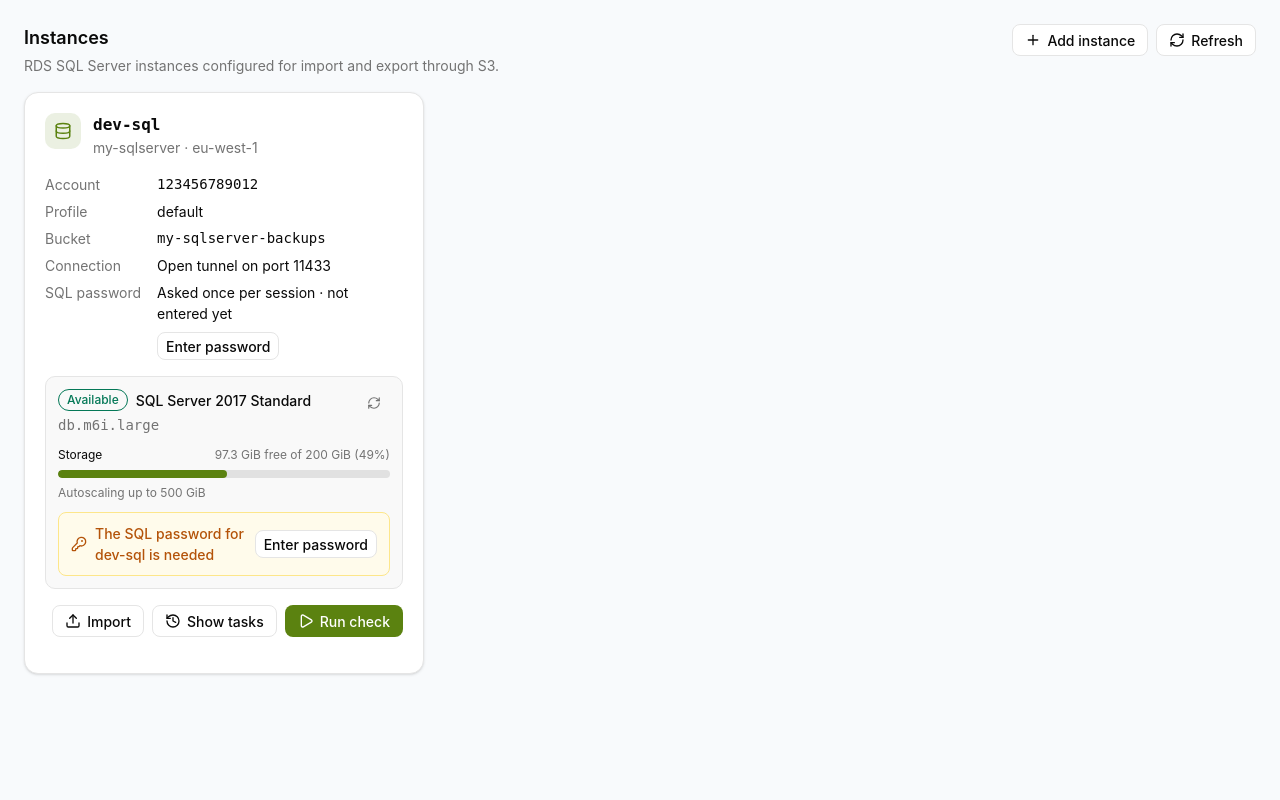
it: the password dialog from the pages › Instances: the overview that skips SQL for the password offers the dialog, then reloads
// The state line of the card has the same button: this one is in the overview.
Click the button with aria-label "Enter password for dev-sql" at [316, 544], box [255,530,377,558]
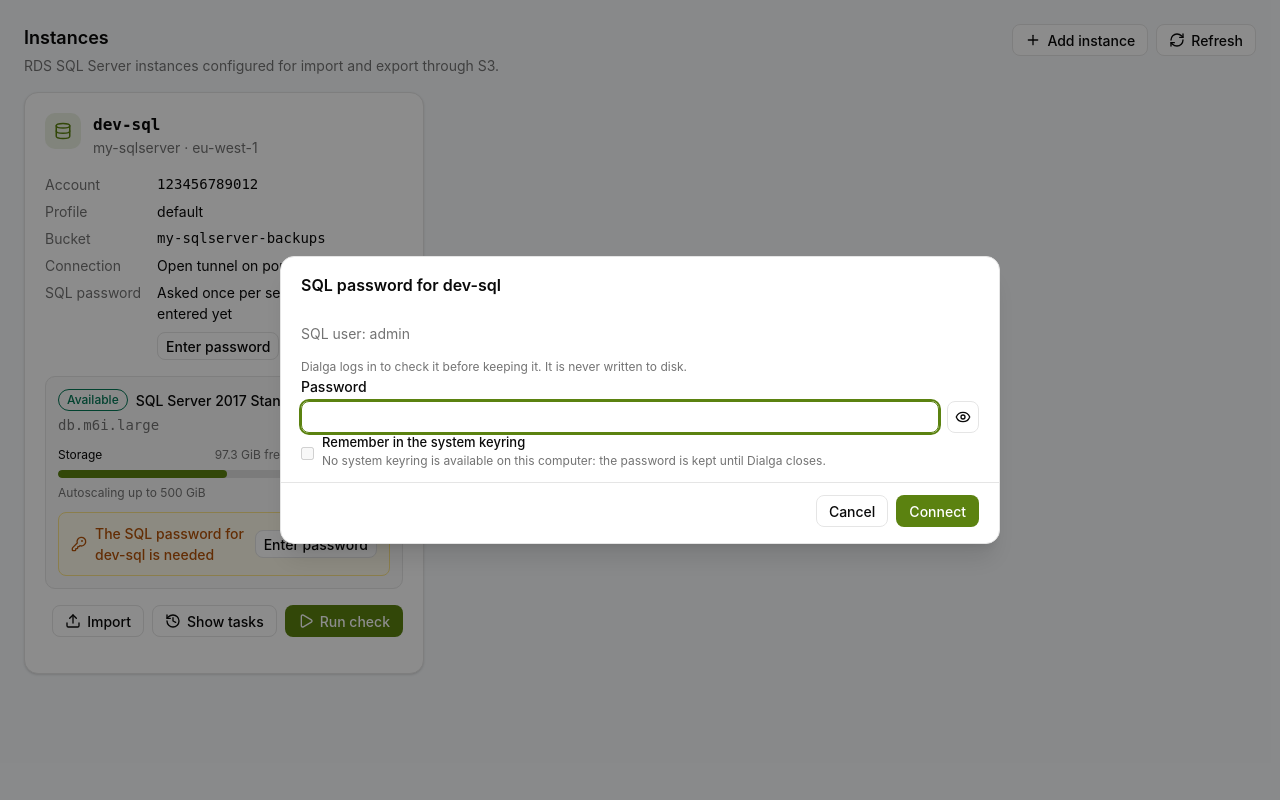
Type "pw" into the password field labelled "Password" at [620, 417], box [301,401,939,433]
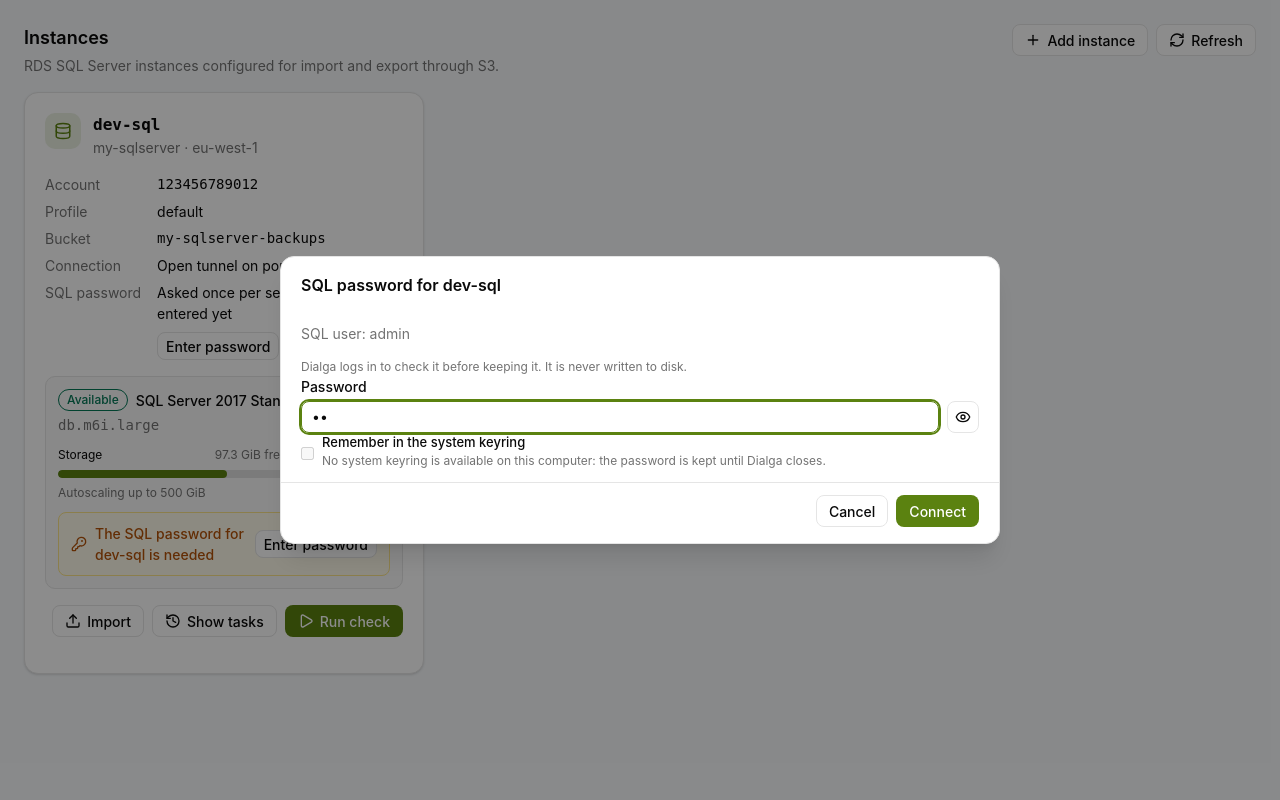
Click the button "Connect" at [938, 511], box [896,495,979,527]
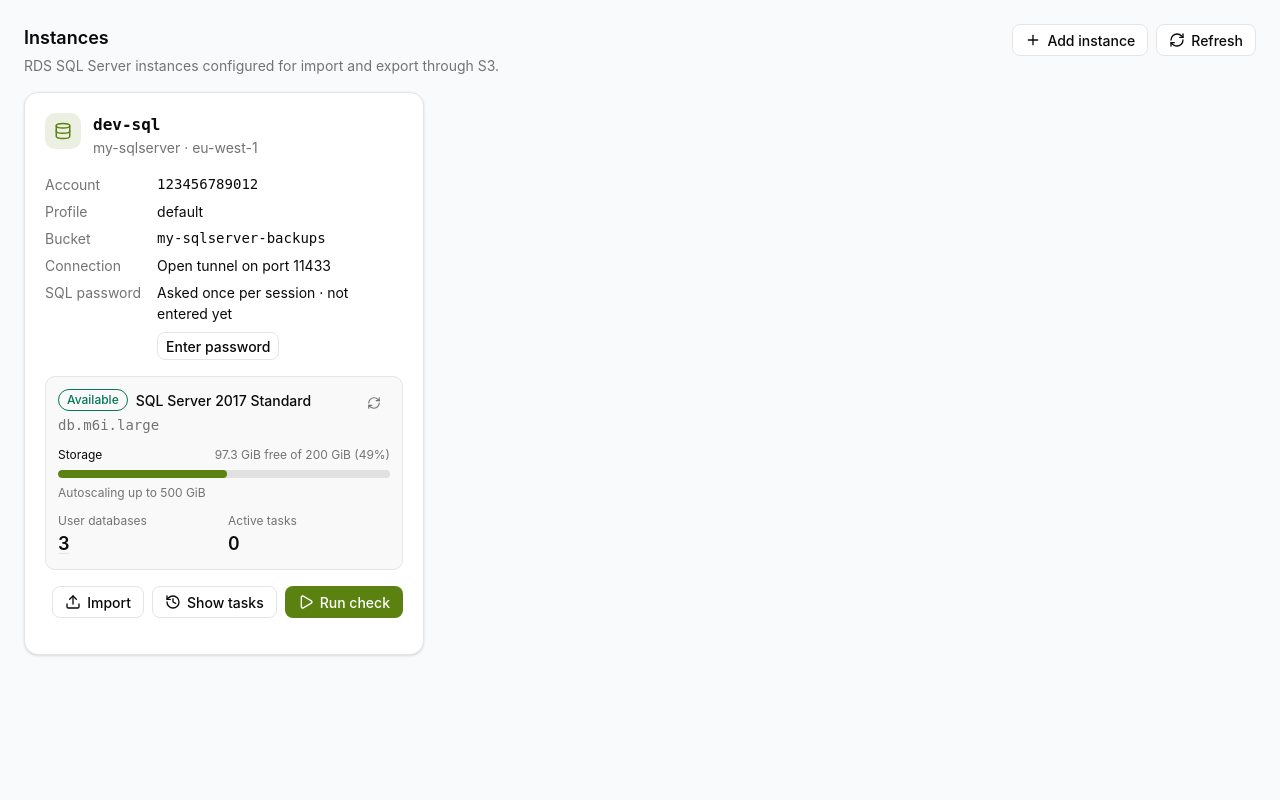
Expected: the link named "3 · " is shown, [58,533,70,554]
